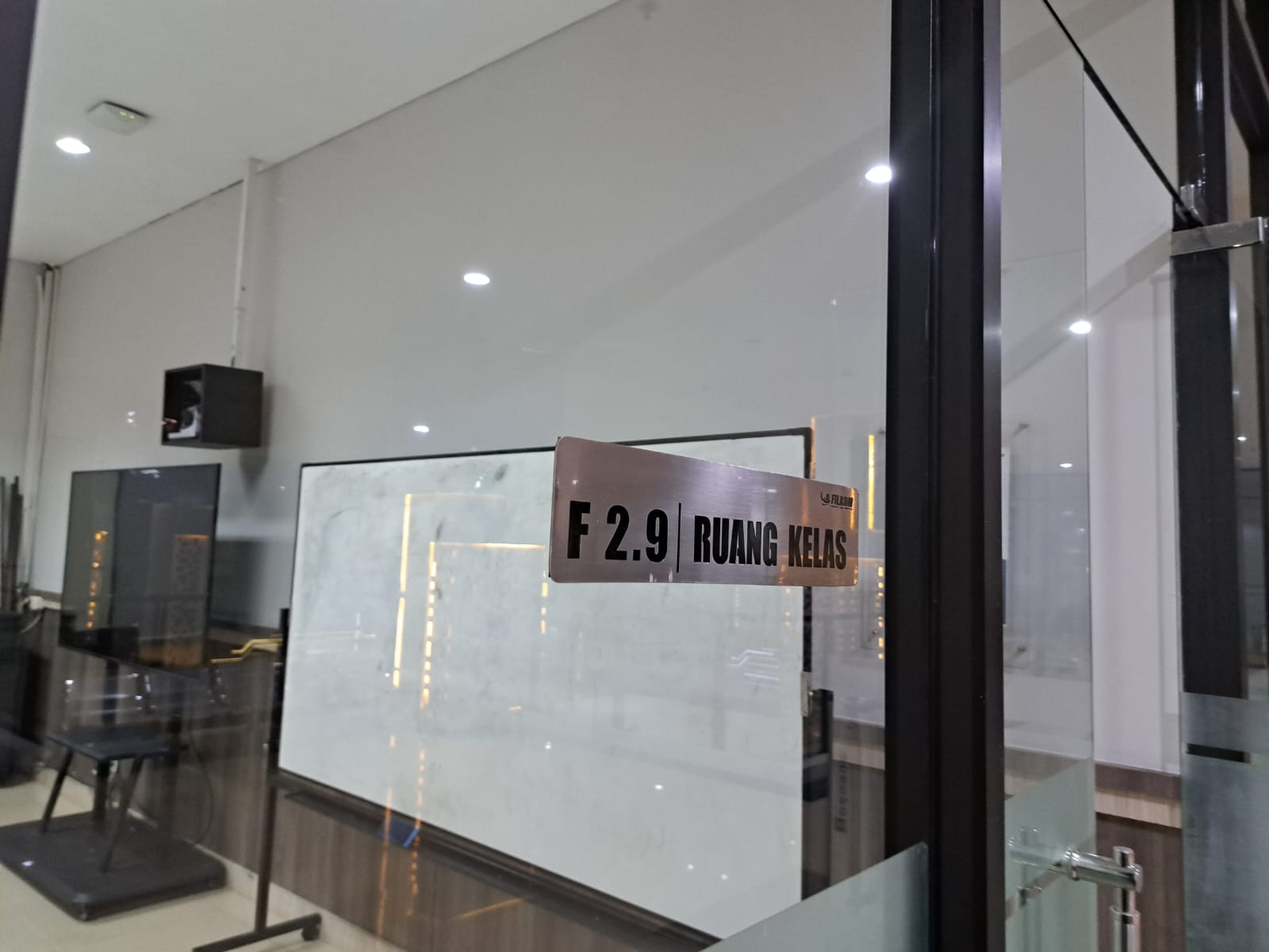ruangan: (543, 425, 862, 594)
